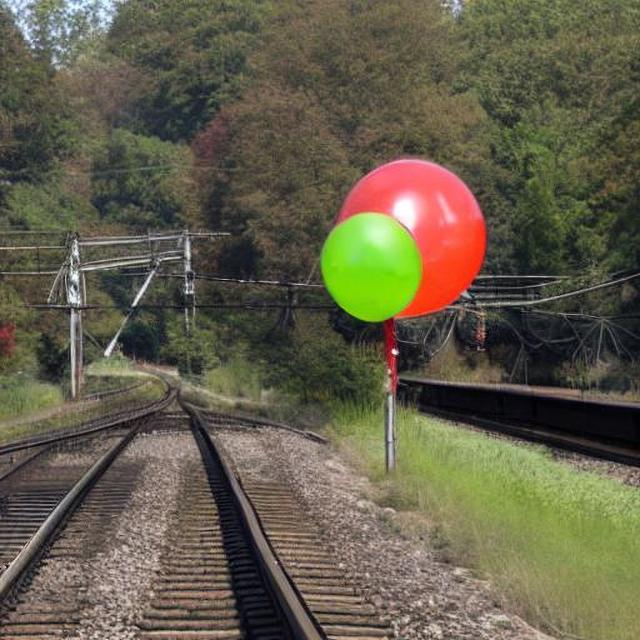balloon: (314, 153, 486, 339)
